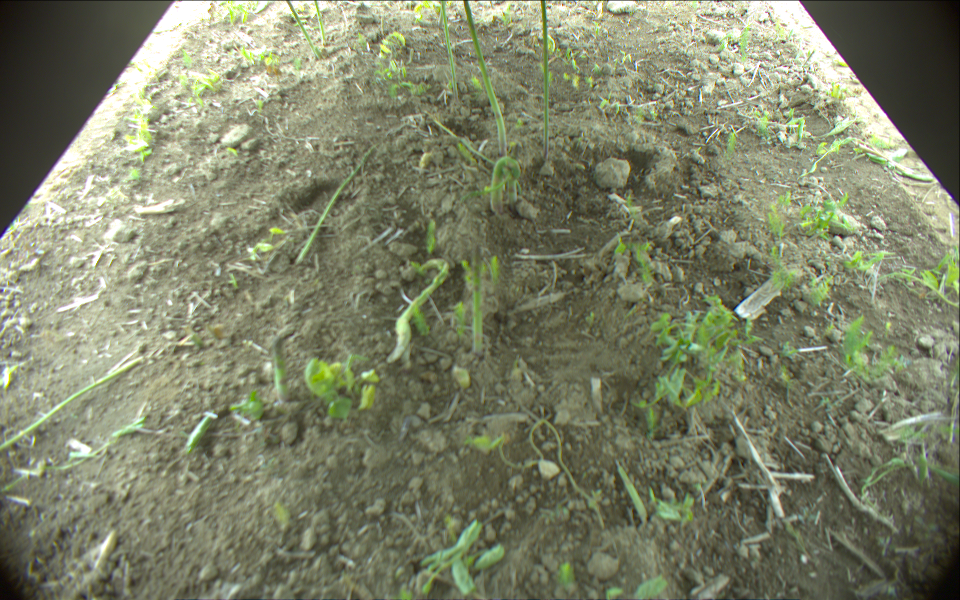aspa: (1, 359, 144, 453), (296, 140, 384, 264), (460, 1, 508, 158), (387, 268, 447, 364), (438, 1, 459, 101), (287, 1, 322, 56), (270, 329, 293, 398), (540, 1, 548, 160), (473, 243, 483, 351), (312, 1, 326, 42)
